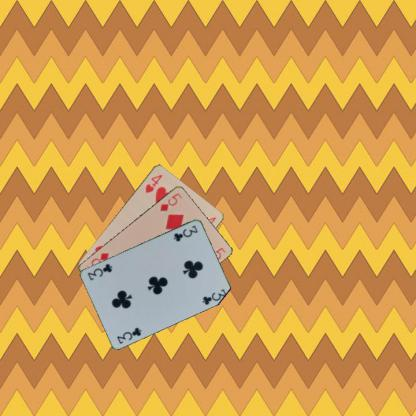3c: (114, 324, 143, 345), (171, 222, 199, 242)
4h: (142, 172, 164, 194)
5d: (157, 190, 183, 213)
